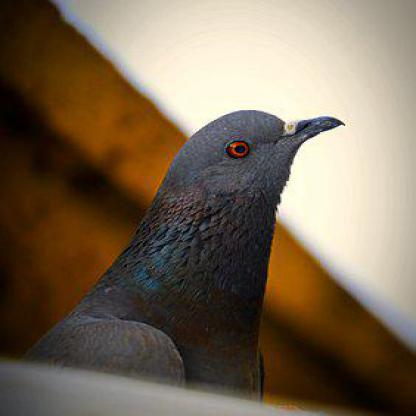Rock Pigeon: (13, 106, 361, 395)
